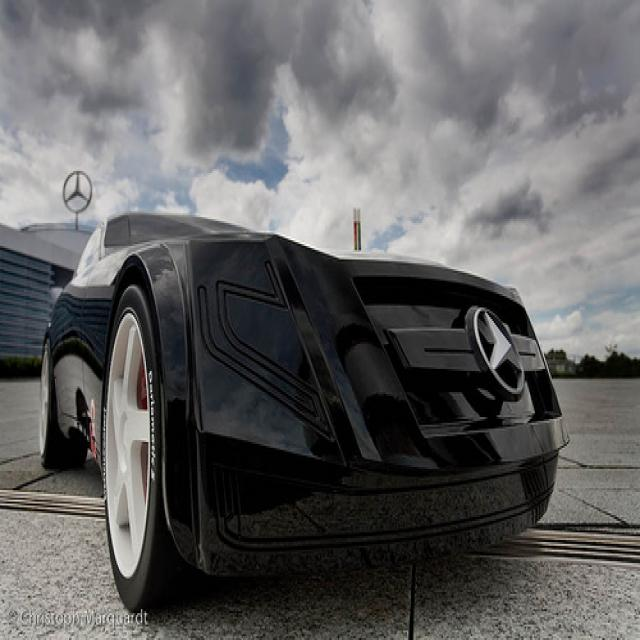Car: (30, 218, 568, 606)
